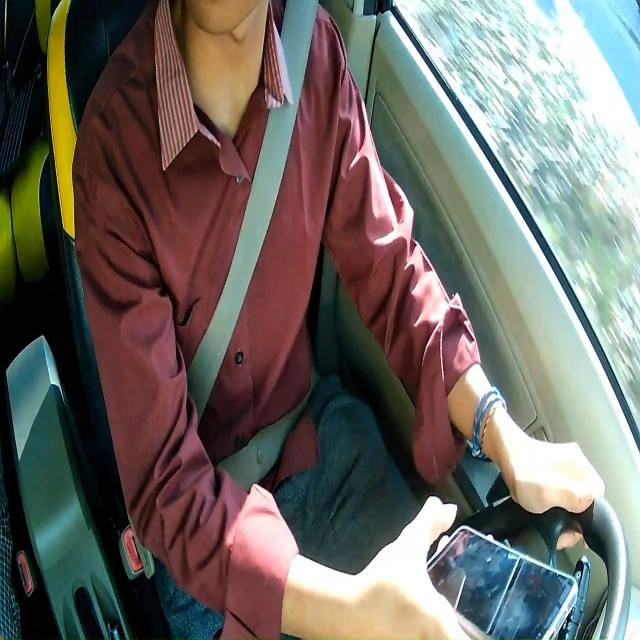phone: (426, 526, 578, 639)
